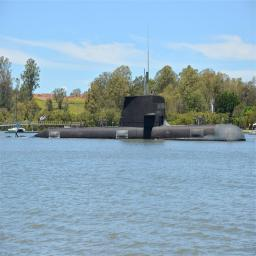submarine: (13, 95, 247, 138)
